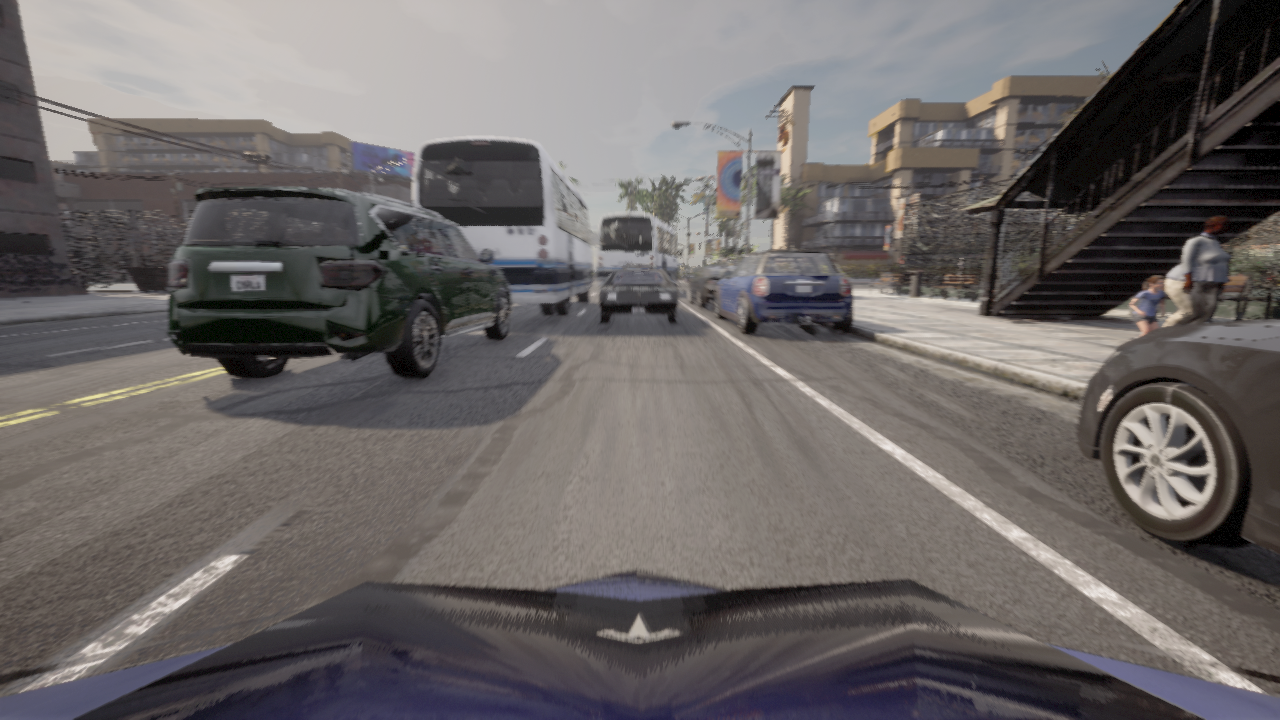cyclist: (0, 569, 1279, 719), (166, 187, 511, 378), (1077, 318, 1279, 553), (414, 136, 599, 315), (714, 243, 852, 333), (597, 212, 682, 286), (598, 270, 679, 322), (688, 263, 737, 309), (904, 271, 944, 283), (623, 263, 653, 269)
pedestrian: (1162, 215, 1231, 327), (1130, 276, 1165, 338)
